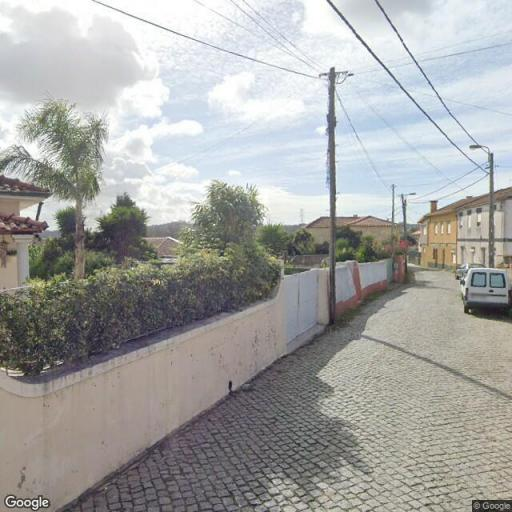mono_7: (318, 64, 345, 326)
